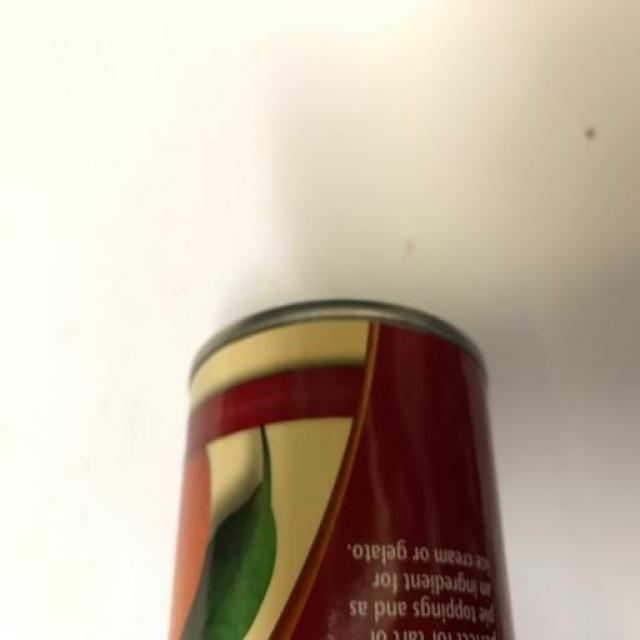metel: (143, 161, 558, 640)
